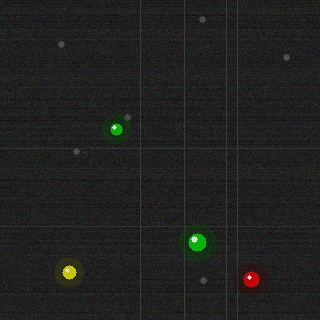green_normal: (186, 231, 208, 253), (108, 121, 124, 137)
red_fault: (241, 269, 261, 289)
yellow_warning: (60, 263, 78, 281)
